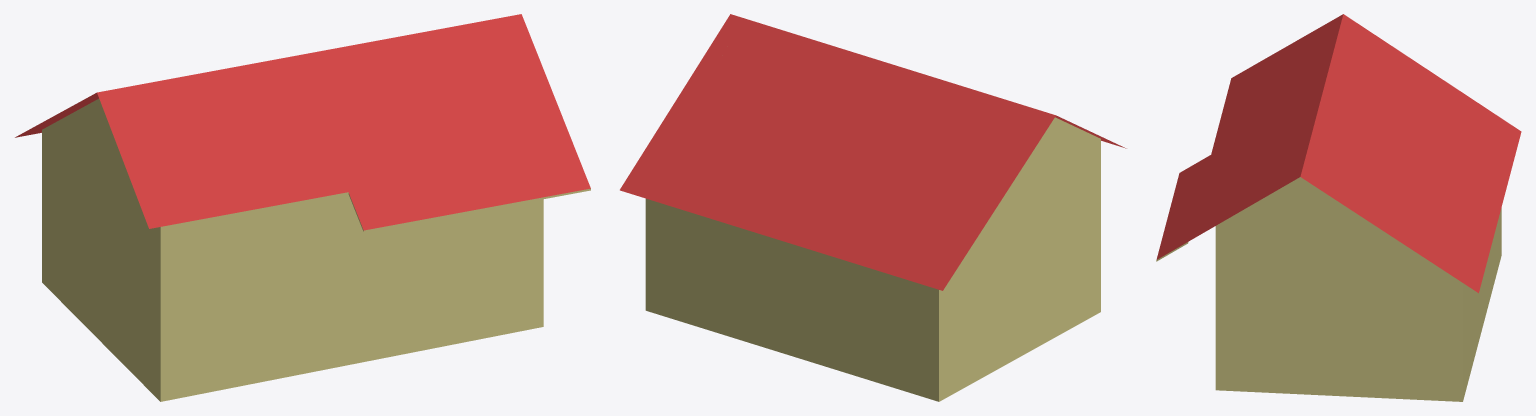
3 views of the same model, side by side, from view 1: azimuth 30°, elevation 25°; view 2: azimuth 150°, elevation 25°; view 3: azimuth 270°, elevation 25° (orthographic). The views are drawn at different scales.
Size of the model in its own units: 23.37 by 20.33 by 13.82.
